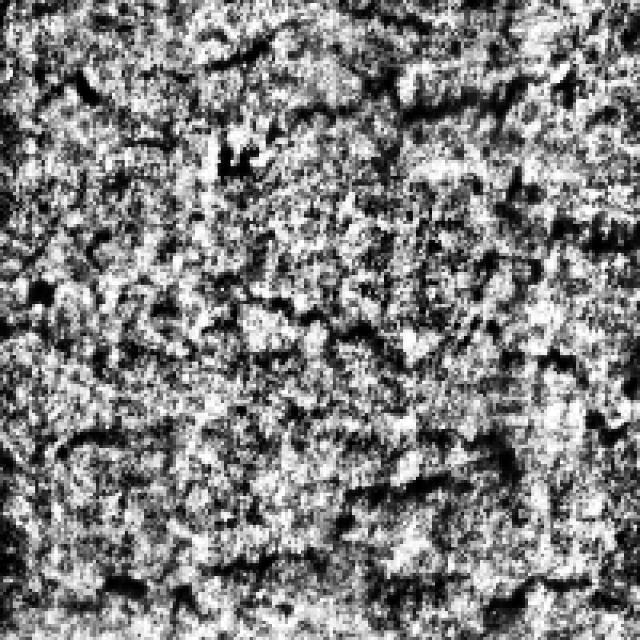Pitted_Surface: (51, 406, 624, 634), (202, 240, 576, 534), (112, 9, 586, 172)
